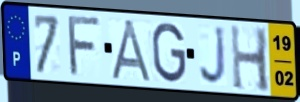7: (33, 14, 61, 75)
A: (109, 18, 156, 85)
F: (67, 15, 103, 79)
G: (150, 21, 188, 85)
H: (229, 22, 272, 95)
J: (198, 25, 229, 87)
